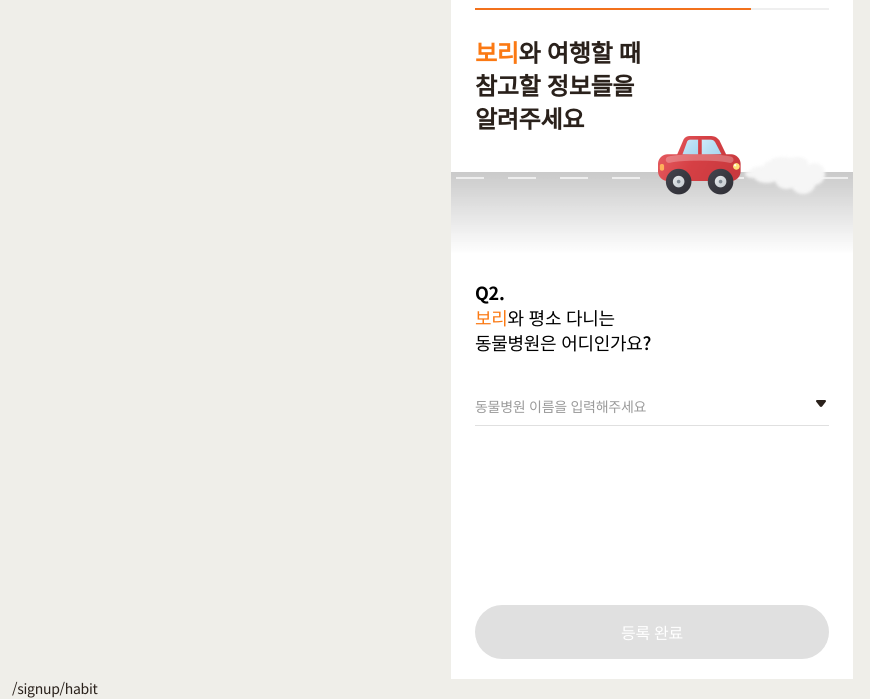
M02 반려동물 등록 › 병원 검색 결과가 없으면 알려주고, 고른 뒤 다시 바꿀 수 있다
The image size is (870, 699).
(page scrolled)
Step 1. Type "없는병원" into the dropdown labelled "동물병원" → (637, 403), box [475,383,799,423]
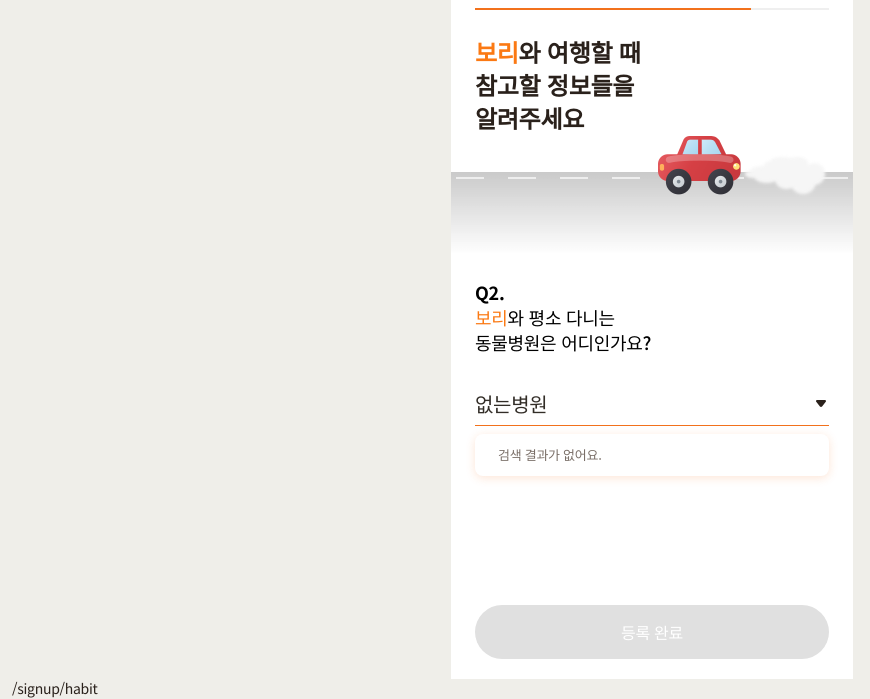
Expected: the text "검색 결과가 없어요." is shown, [498,445,602,464]
Step 2. Replace the text in the dropdown named "동물병원" with "멍멍" → (637, 403), box [475,383,799,423]
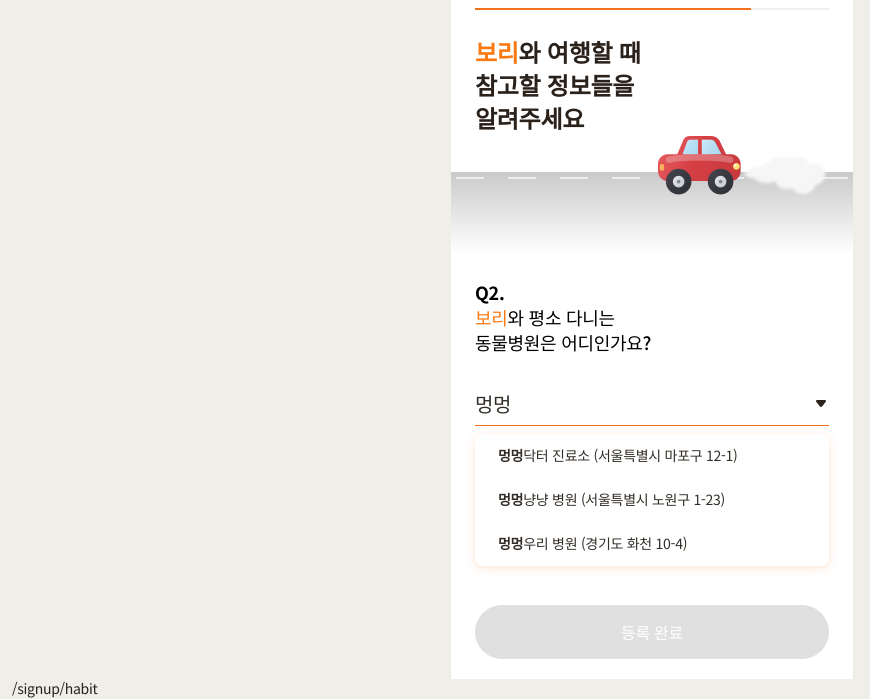
Step 3. Click the option "멍멍냥냥 병원 (서울특별시 노원구 1-23)" → (652, 500), box [475,478,829,522]
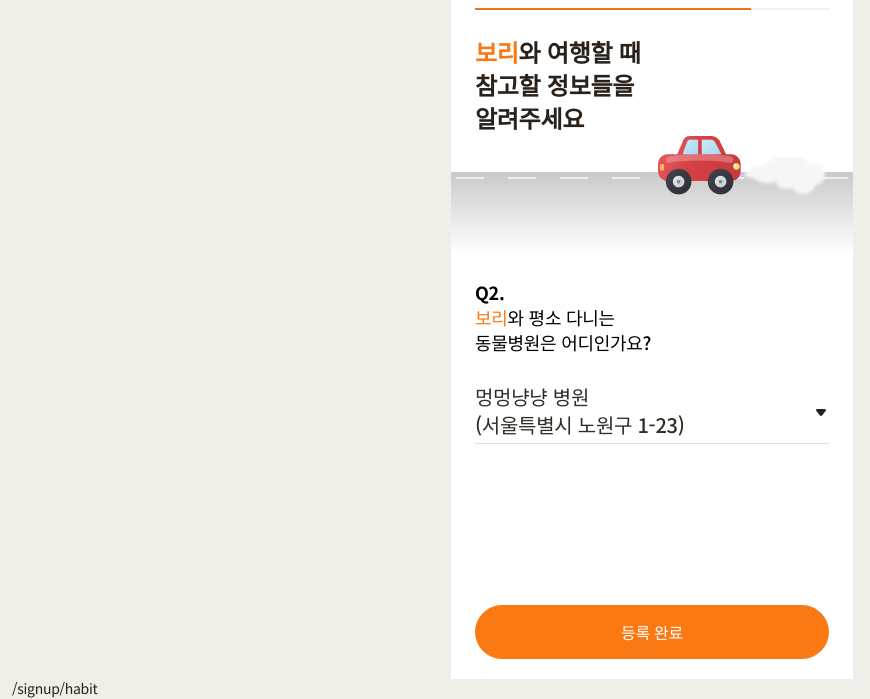
Expected: the button "등록 완료" is enabled, [475,605,829,659]
Step 4. Click the button with aria-label "다시 선택" → (637, 412), box [475,381,799,443]
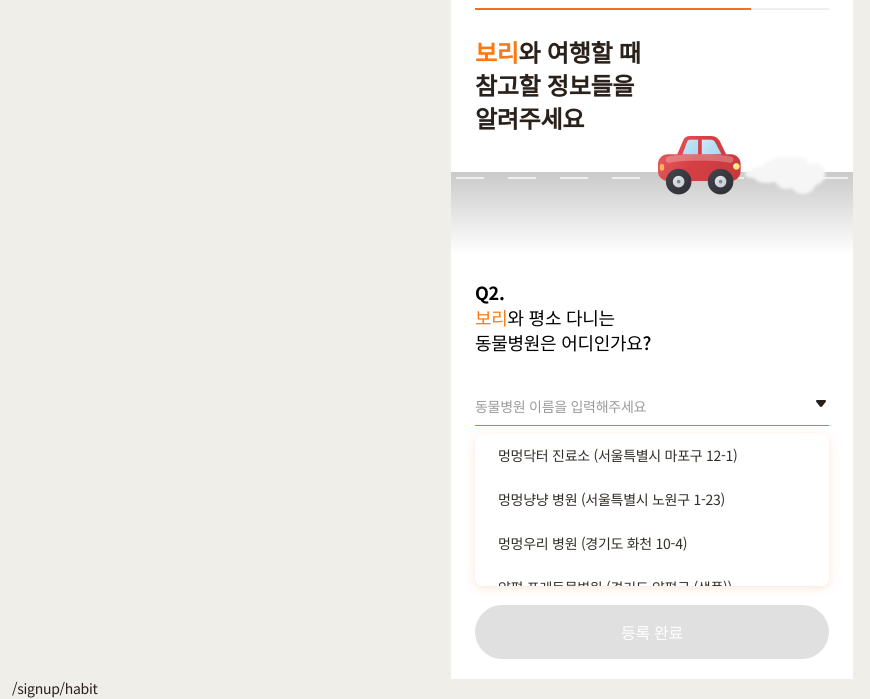
Expected: the button "등록 완료" is disabled, [475,605,829,659]
